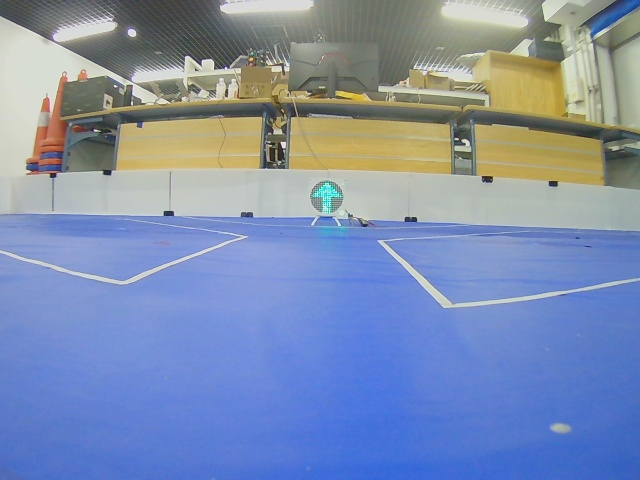straight_green: (310, 181, 344, 214)
